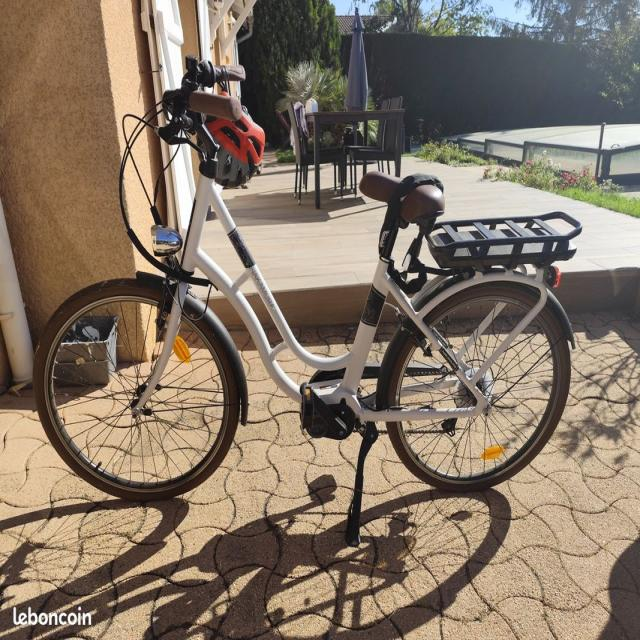Bike: (31, 53, 582, 554)
